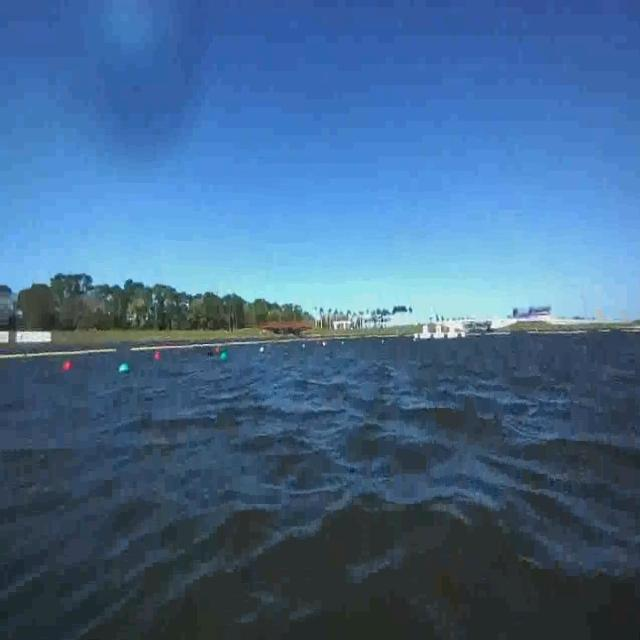green-buoy: (118, 361, 129, 378)
red-buoy: (62, 359, 74, 374)
